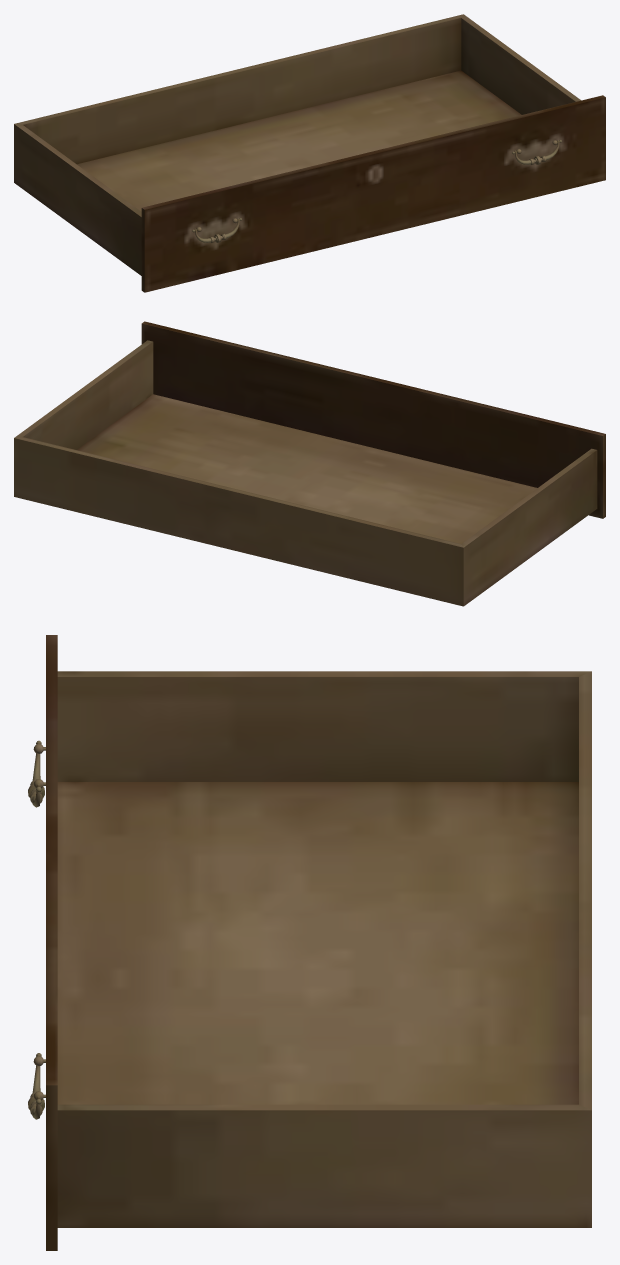
The model's file is SM_commode_drawer_03_78a8e5.glb.
3 renders of one model, top to bottom at view 1: azimuth 30°, elevation 25°; view 2: azimuth 150°, elevation 25°; view 3: azimuth 270°, elevation 25°, orthographic. The views are drawn at different scales.
Size of the model in its own units: 0.8872 by 0.1522 by 0.4696.
Materials: 1 (1 with a texture image).
